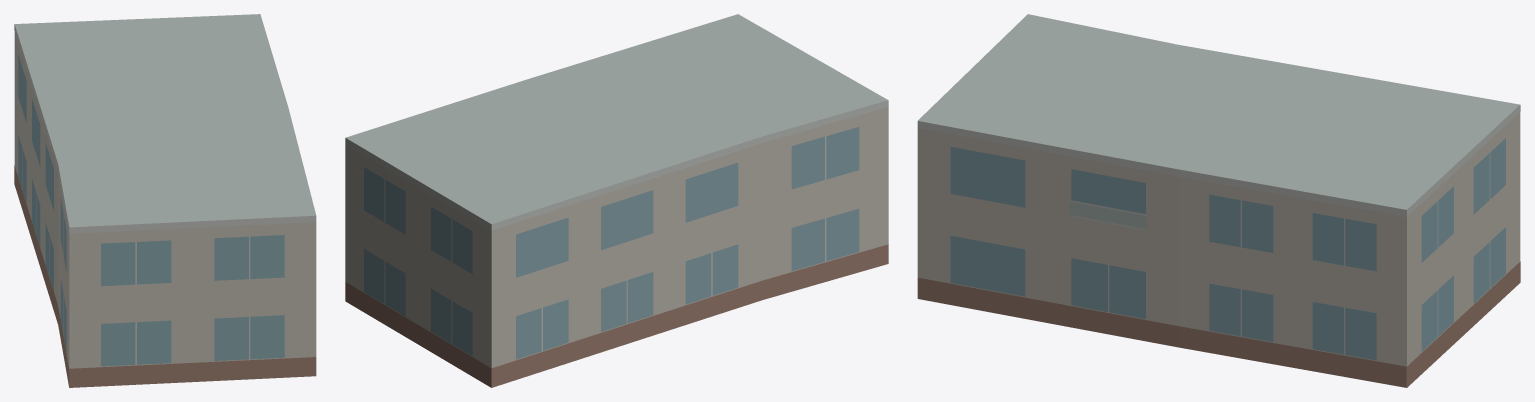
The model's file is survey-upis-32520766.glb.
The picture shows the model from 3 angles, left to right: view 1: azimuth 30°, elevation 25°; view 2: azimuth 150°, elevation 25°; view 3: azimuth 270°, elevation 25°; orthographic projection. The views are drawn at different scales.
Visible parts, largest first — view 1: survey-upis-32520766.tmp; view 2: survey-upis-32520766.tmp; view 3: survey-upis-32520766.tmp.
Part boxes in pixels (bbox=[...]): survey-upis-32520766.tmp: bbox=[14, 14, 316, 387]; survey-upis-32520766.tmp: bbox=[345, 14, 888, 387]; survey-upis-32520766.tmp: bbox=[917, 14, 1520, 387].
Bounding box in the file's own units: 14.41 × 6.1 × 18.74.
